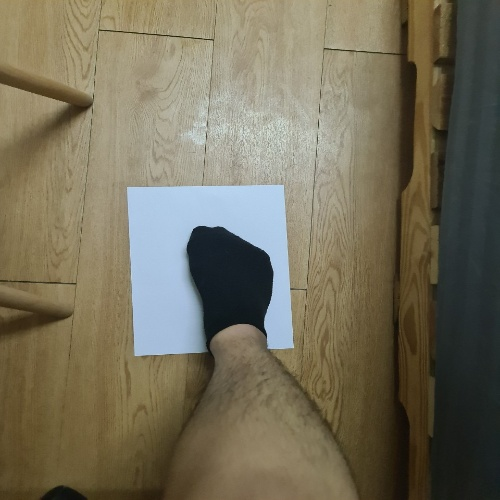Top_Foot: (111, 171, 321, 371)
